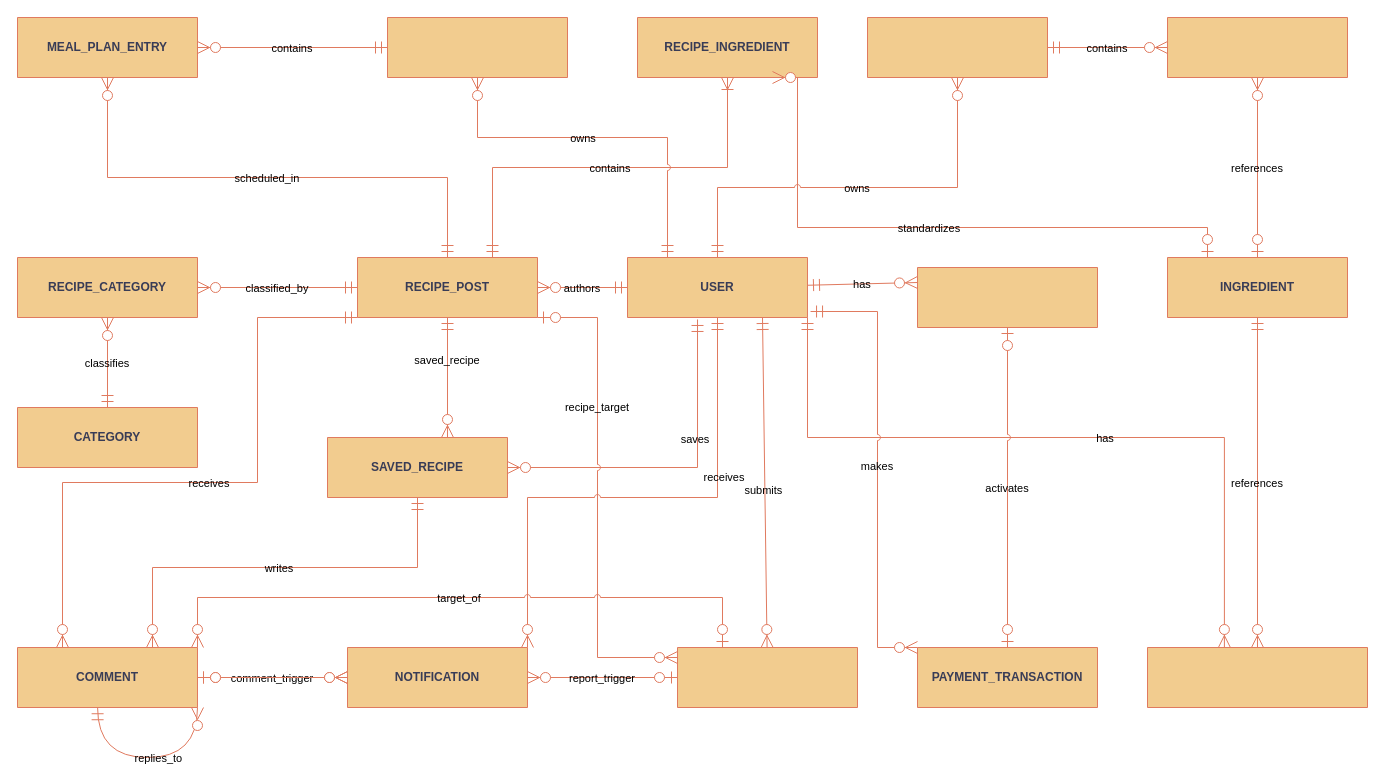
Some shapes in this 1385 by 781 pixel diagram are drawn without their labels. Here are the shapes that lost their labels. From the top down, the centre of each, then its label:
At pixel 477 47: "MEAL_PLAN".
At pixel 957 47: "SHOPPING_LIST".
At pixel 1257 47: "SHOPPING_LIST_ITEM".
At pixel 1007 297: "SUBSCRIPTION".
At pixel 767 677: "REPORT".
At pixel 1257 677: "USER_INGREDIENT_PREFERENCE".
